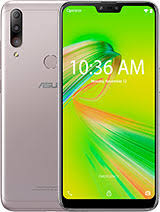asus: (1, 1, 159, 210)
